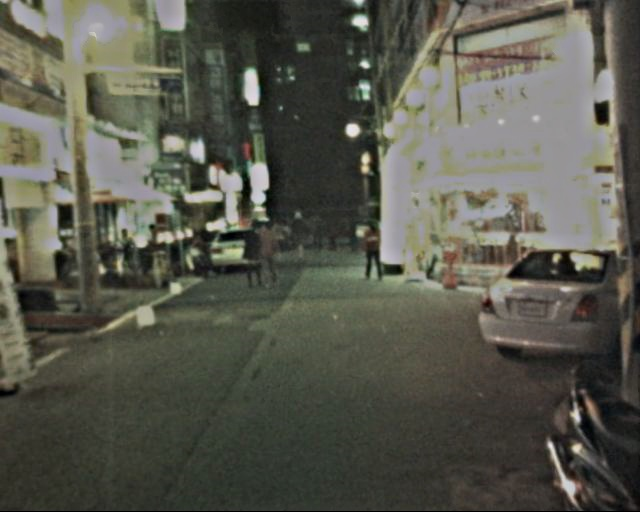person: (252, 223, 282, 293), (239, 226, 269, 294), (358, 221, 385, 282), (286, 210, 307, 260), (325, 223, 357, 253), (307, 214, 323, 253)
